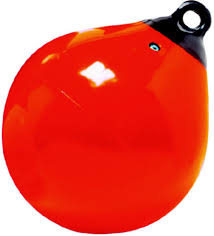buoy: (3, 24, 210, 234)
